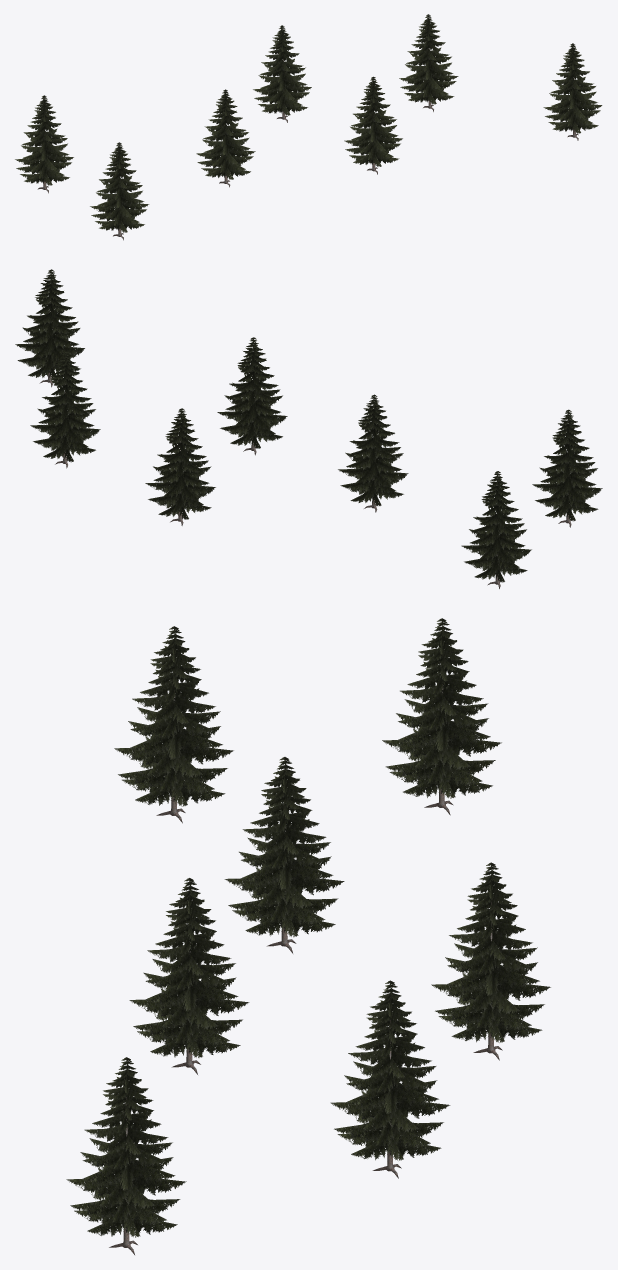
File: Pinos.obj
The picture shows the model from 3 angles, top to bottom: view 1: azimuth 30°, elevation 25°; view 2: azimuth 150°, elevation 25°; view 3: azimuth 270°, elevation 25°; orthographic projection. The views are drawn at different scales.
Visible parts, largest first — view 1: Spruce007, Spruce001, Spruce004, Spruce, Spruce002, Spruce005, Spruce006; view 2: Spruce001, Spruce007, Spruce, Spruce004, Spruce002, Spruce005, Spruce006; view 3: Spruce007, Spruce005, Spruce001, Spruce004, Spruce006, Spruce, Spruce002.
Boxes of the visible parts, box(x1,y1,x2,y2) form: Spruce007: box(253, 25, 311, 115); Spruce001: box(399, 14, 458, 104); Spruce004: box(15, 95, 73, 185); Spruce: box(344, 76, 402, 166); Spruce002: box(90, 142, 149, 232); Spruce005: box(196, 89, 255, 179); Spruce006: box(543, 43, 602, 133); Spruce001: box(30, 350, 100, 462); Spruce007: box(145, 408, 215, 519); Spruce: box(217, 337, 287, 448); Spruce004: box(461, 471, 531, 582); Spruce002: box(532, 409, 602, 521); Spruce005: box(338, 394, 408, 505); Spruce006: box(15, 269, 84, 378); Spruce007: box(431, 862, 550, 1042); Spruce005: box(224, 757, 344, 937); Spruce001: box(330, 980, 450, 1160); Spruce004: box(382, 618, 501, 798); Spruce006: box(66, 1057, 186, 1237); Spruce: box(129, 878, 249, 1057); Spruce002: box(114, 626, 233, 806).
Size of the model in its own units: 692 by 127 by 293.
Materials: 2 (2 with a texture image).
